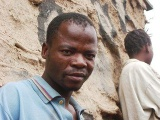male: (46, 22, 97, 92)
